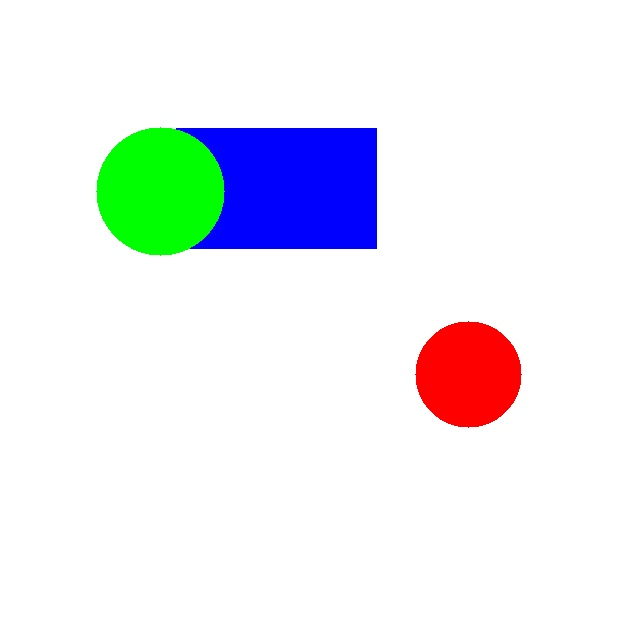cartao: (176, 128, 376, 248)
rosca_externa: (96, 127, 224, 255)
rosca_interna: (415, 321, 521, 427)
